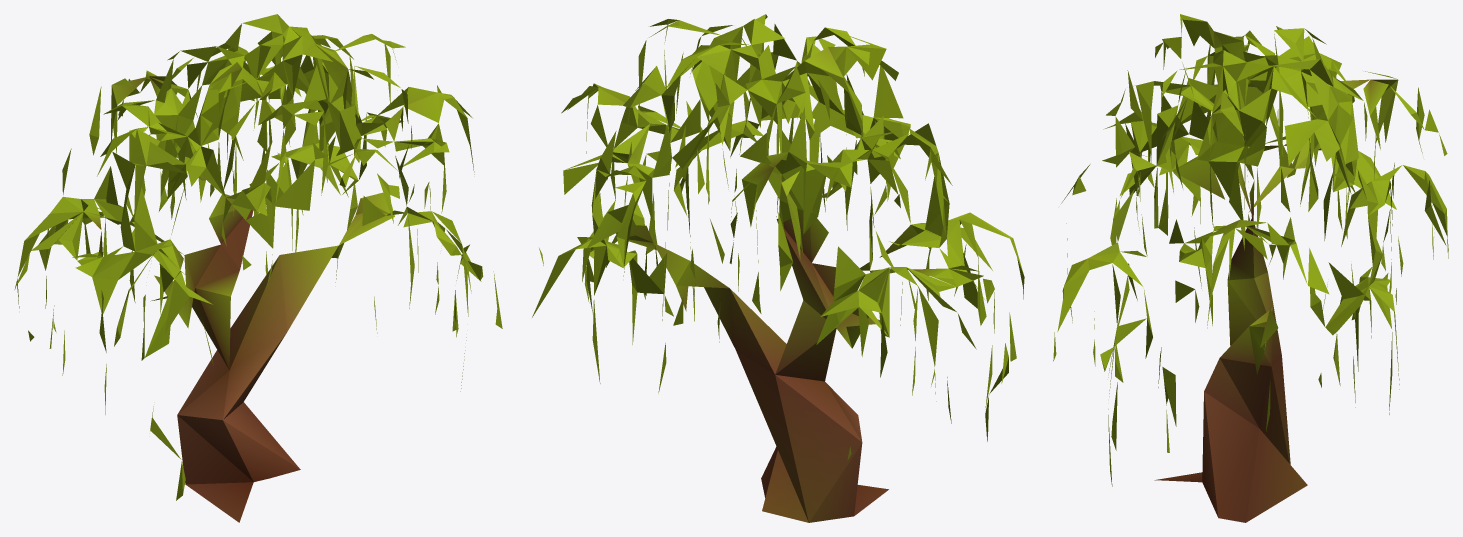
File: lib_tp_lieutang.vc2.glb
The picture shows the model from 3 angles, left to right: view 1: azimuth 30°, elevation 25°; view 2: azimuth 150°, elevation 25°; view 3: azimuth 270°, elevation 25°; orthographic projection. The views are drawn at different scales.
Visible parts, largest first — view 1: lib_tp_lieutang; view 2: lib_tp_lieutang; view 3: lib_tp_lieutang.
Boxes of the visible parts, x1,y1,x2,y2 form: lib_tp_lieutang: [14, 14, 502, 522]; lib_tp_lieutang: [532, 14, 1024, 522]; lib_tp_lieutang: [1053, 14, 1448, 522].
Bounding box in the file's own units: 1.82 × 1.82 × 1.35.
